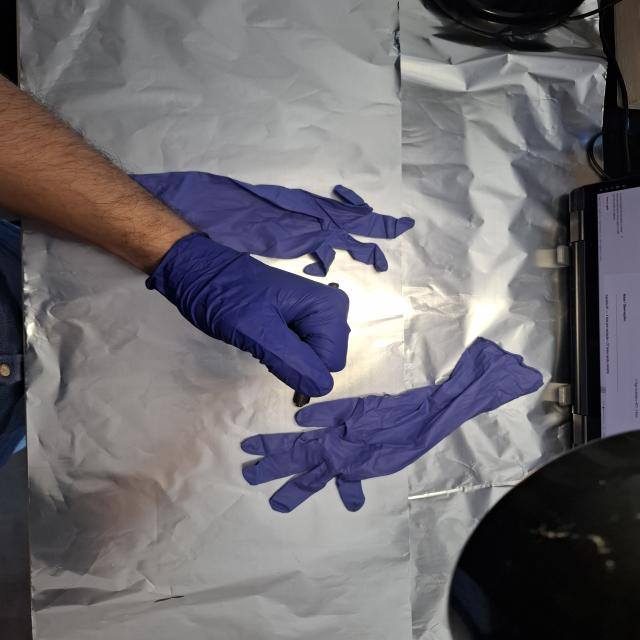glove_on: (145, 231, 354, 399)
